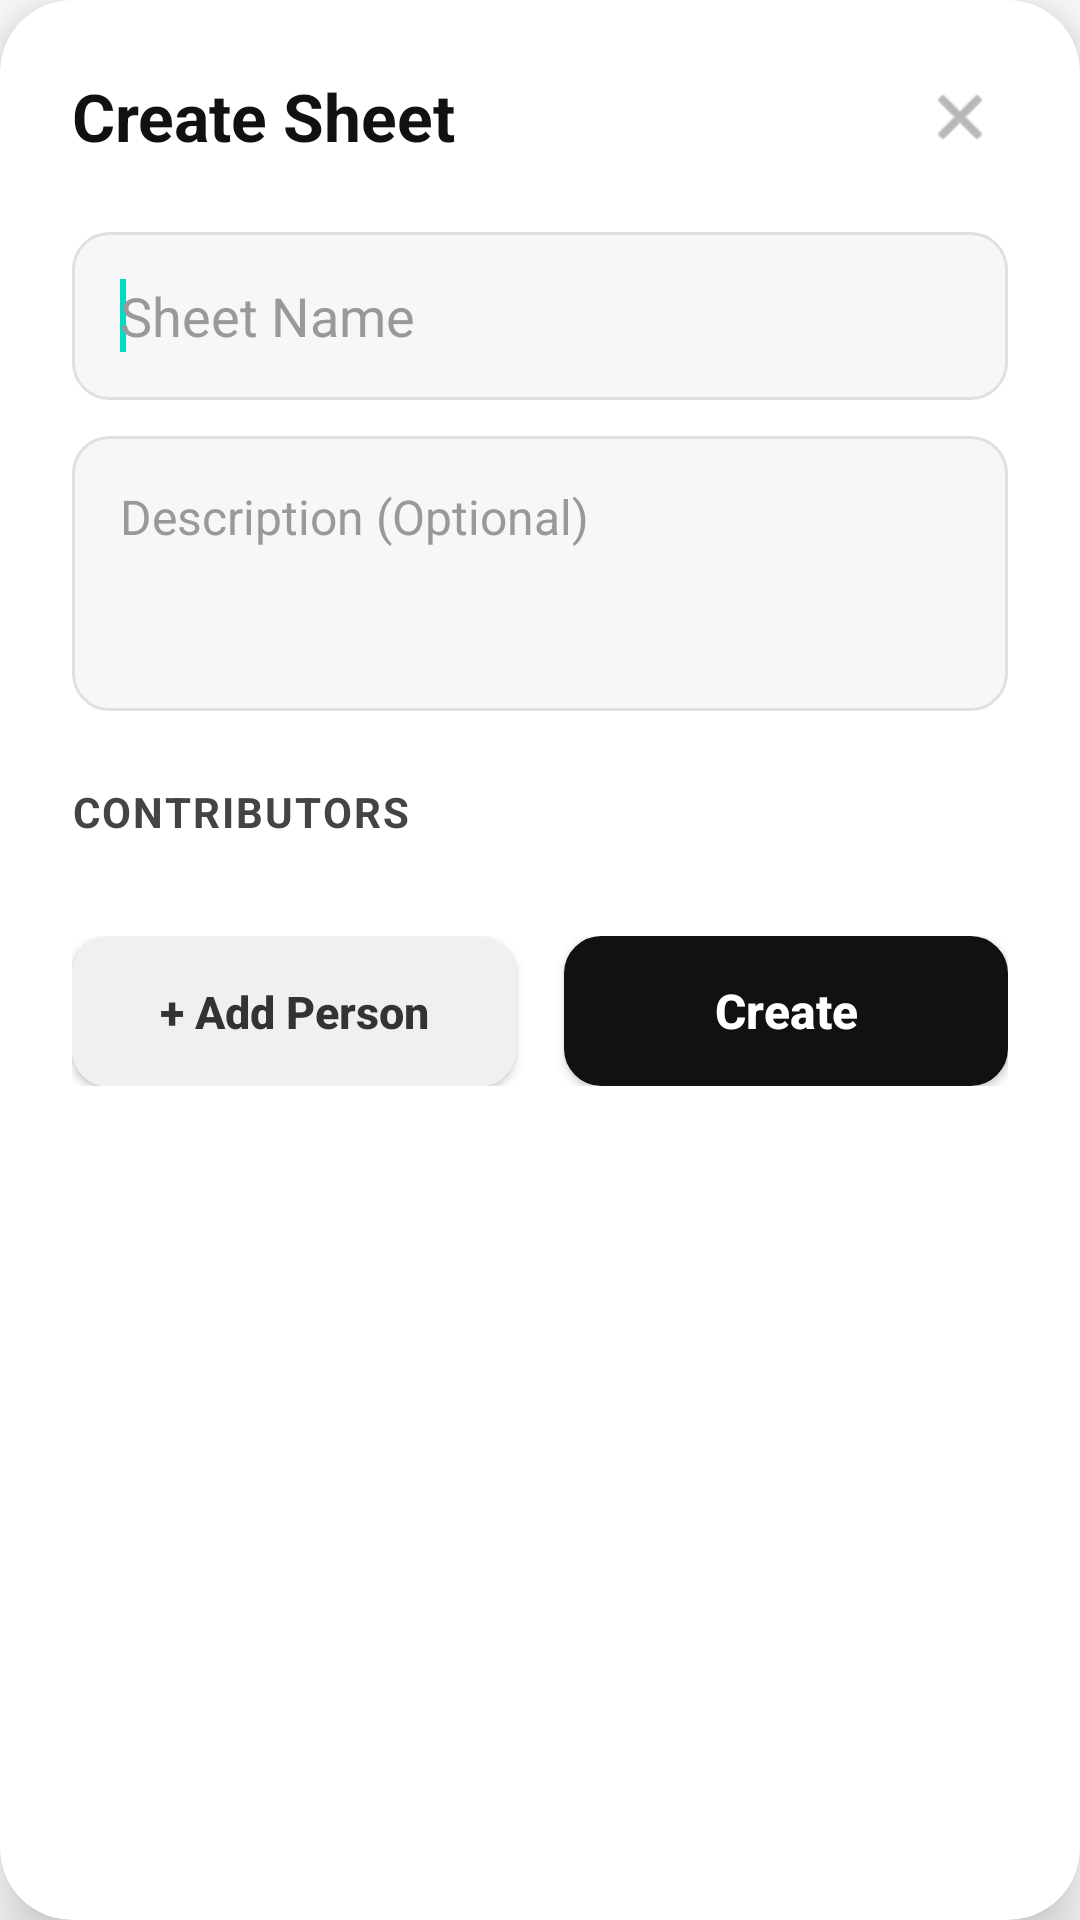

Named icons in this screenshot (1080*1920) and their bounding boxes, (x1,y1,x2,y2):
close clear cancel: (938,95,982,139)
